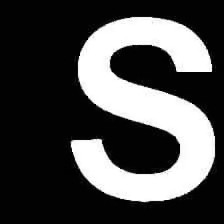LTR_S: (60, 10, 222, 207)
